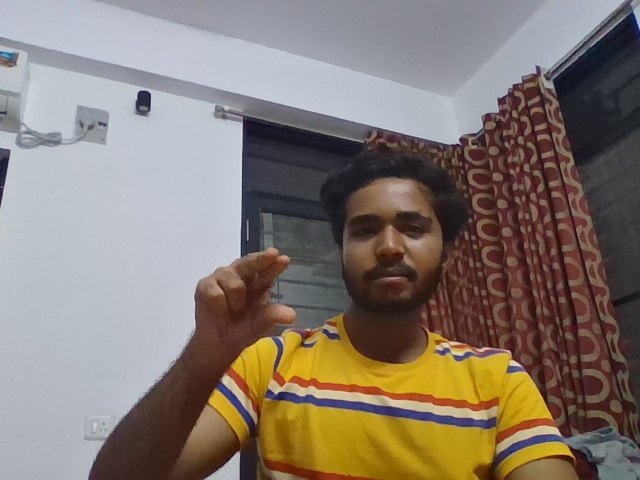No: (179, 235, 314, 368)
